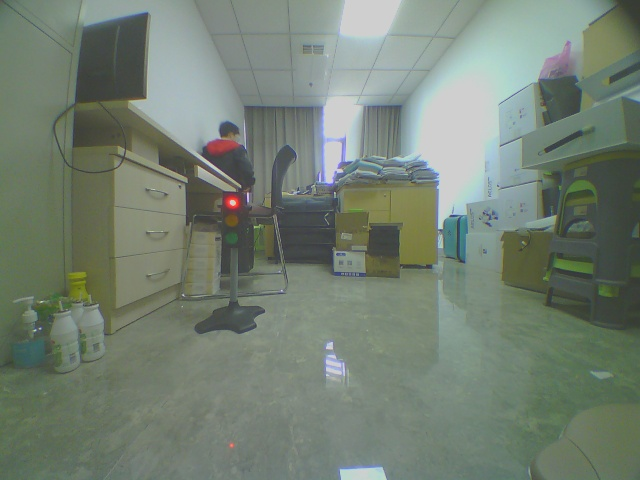Red: (222, 190, 243, 247)
